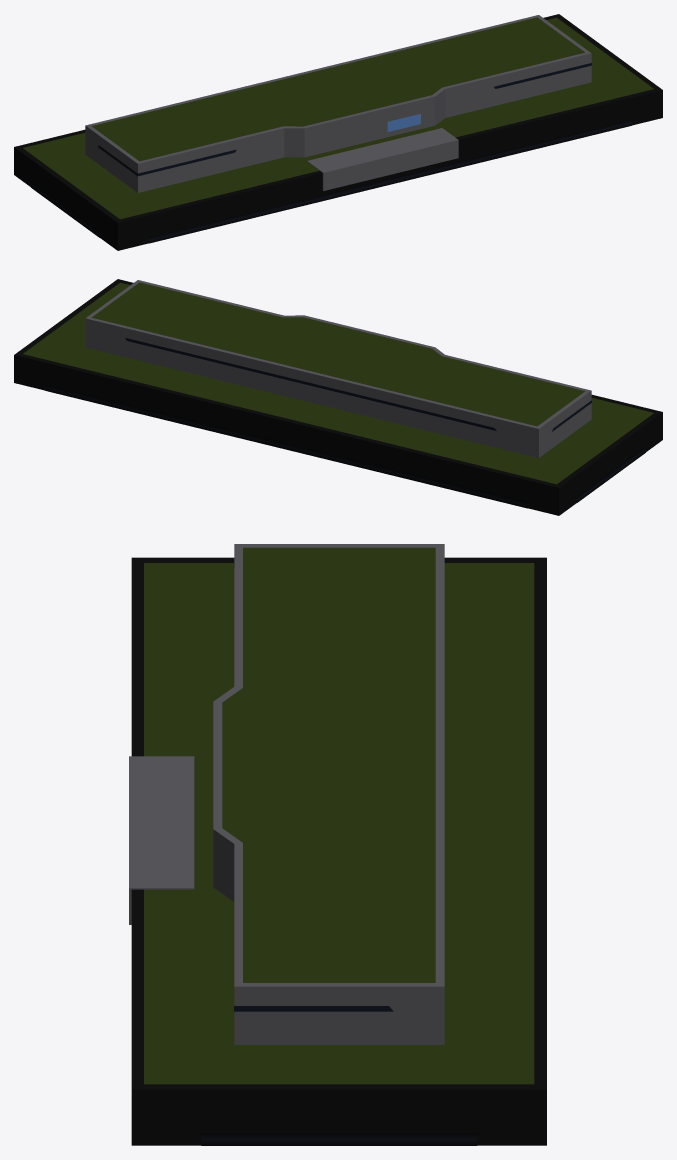
The model's file is W_O_Flowerbed_001_a_L3.fbx.
3 views of the same model, one above another, from view 1: azimuth 30°, elevation 25°; view 2: azimuth 150°, elevation 25°; view 3: azimuth 270°, elevation 25° (orthographic). The views are drawn at different scales.
Parts seen in each view (by area): view 1: W_O_Flowerbed_001_a_L3; view 2: W_O_Flowerbed_001_a_L3; view 3: W_O_Flowerbed_001_a_L3.
Boxes of the visible parts, <box> form: W_O_Flowerbed_001_a_L3: <box>14,14,662,250</box>; W_O_Flowerbed_001_a_L3: <box>14,279,662,515</box>; W_O_Flowerbed_001_a_L3: <box>129,544,546,1145</box>.
Bounding box in the file's own units: 10.01 × 1 × 3.33.
